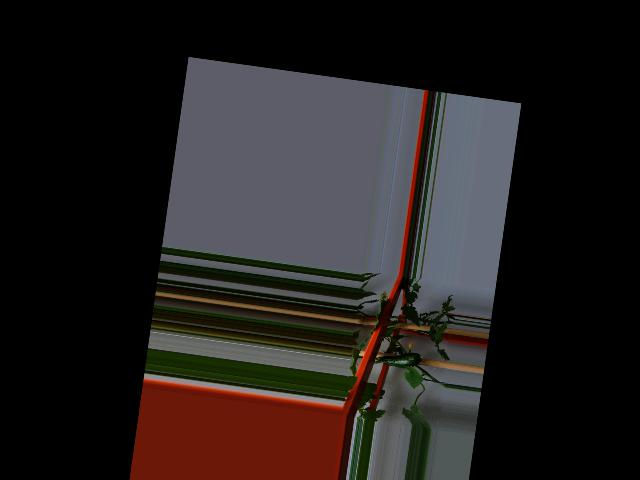cucumber: (381, 348, 425, 370)
